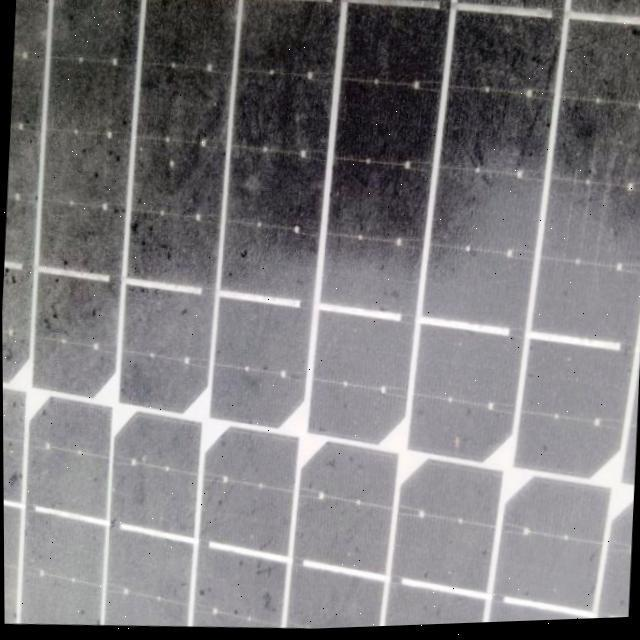Anomaly Solar Panel: (0, 0, 640, 640)
Surface Contaminant: (3, 0, 640, 628)
